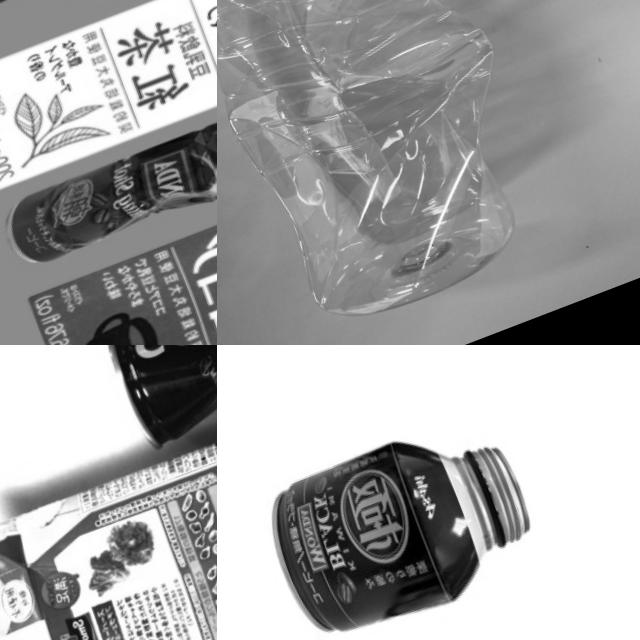Aluminium Foil: (0, 366, 217, 640), (0, 0, 217, 203), (25, 125, 217, 345)
Can: (250, 398, 560, 640), (0, 103, 217, 285), (95, 345, 217, 460)
Transparent Plastic Bottle: (217, 0, 581, 345)
